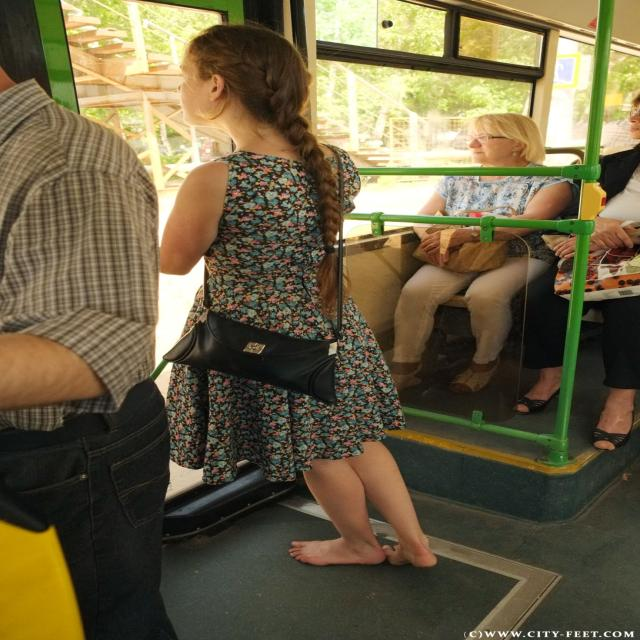No Safety Boots: (289, 538, 386, 566), (382, 542, 438, 568)
